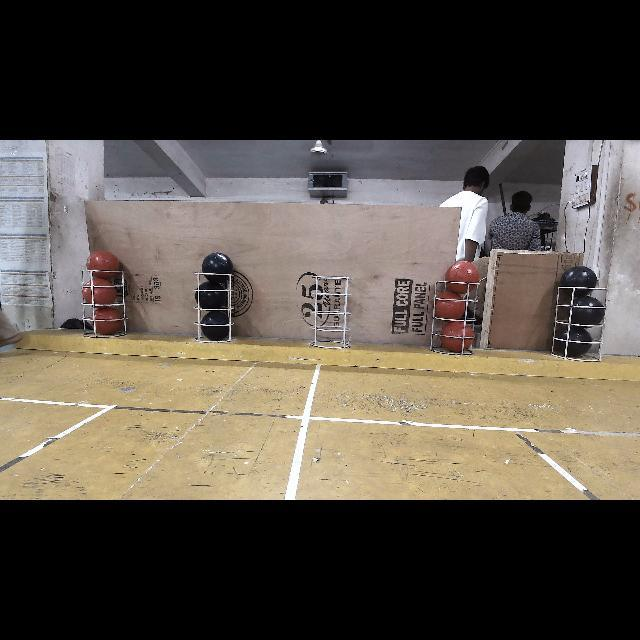P: (561, 266, 599, 297), (556, 326, 592, 358), (201, 252, 234, 283), (572, 298, 604, 324), (195, 284, 227, 308), (202, 312, 230, 338)
R: (445, 262, 480, 295), (86, 250, 120, 279), (440, 322, 472, 350), (83, 280, 117, 306), (90, 309, 122, 335), (434, 294, 464, 320)
S: (80, 260, 132, 338), (432, 276, 481, 354), (554, 285, 604, 359), (192, 266, 235, 342), (311, 272, 351, 348)
